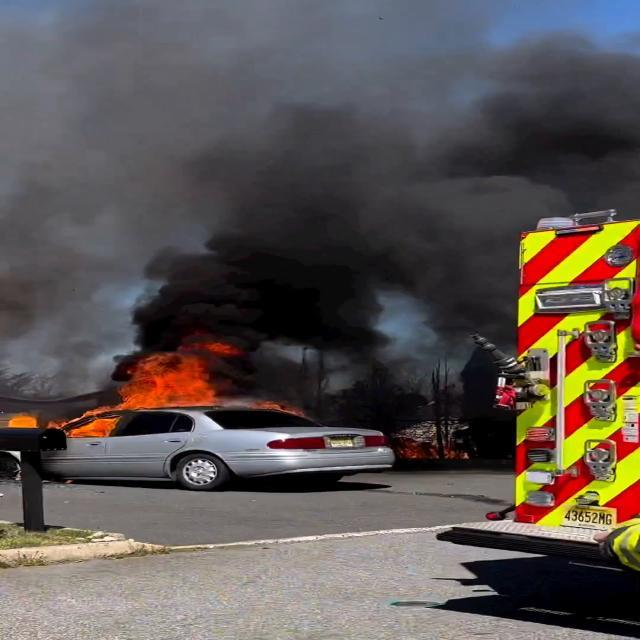Fire: (112, 352, 216, 412)
Smoke: (129, 84, 597, 225), (176, 238, 311, 349)
